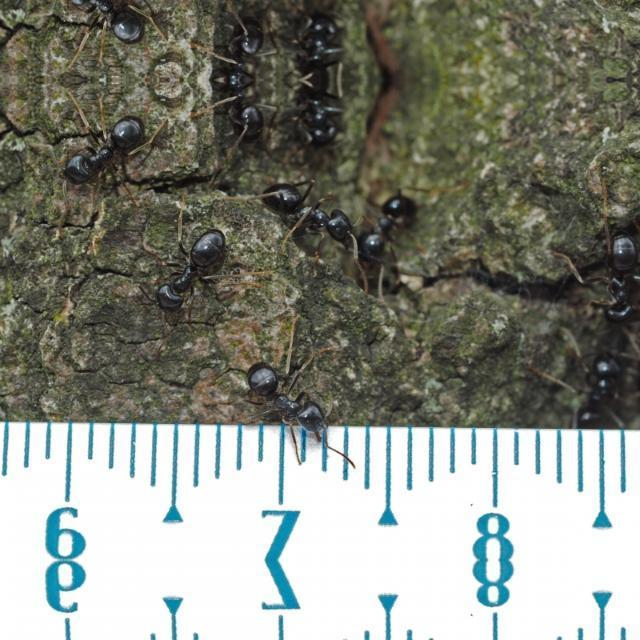Lasius: (49, 120, 172, 194), (141, 216, 231, 314), (240, 355, 336, 445), (576, 208, 640, 329), (258, 176, 360, 250), (556, 344, 634, 428), (366, 181, 422, 271), (48, 0, 172, 40), (293, 80, 357, 150), (293, 10, 357, 80), (202, 80, 278, 136), (202, 24, 278, 80)
